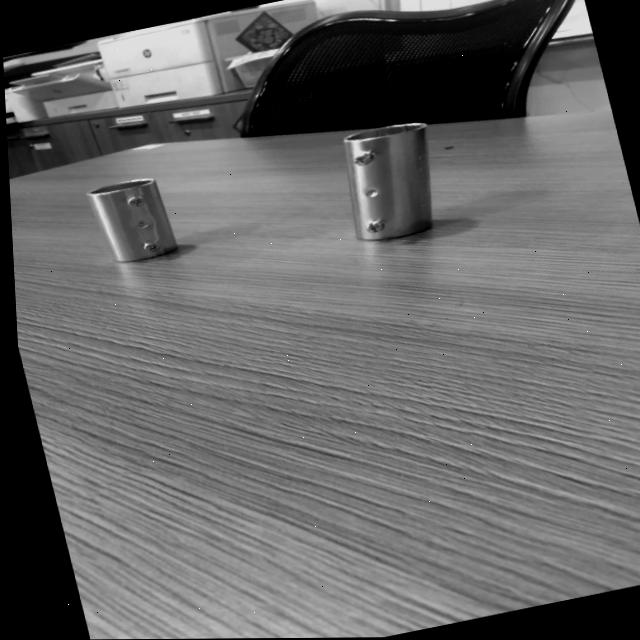Co_Lon: (341, 121, 438, 243)
Co_Nho: (85, 170, 178, 271)
